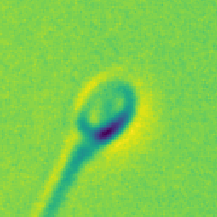normal: (1, 136, 91, 217)
